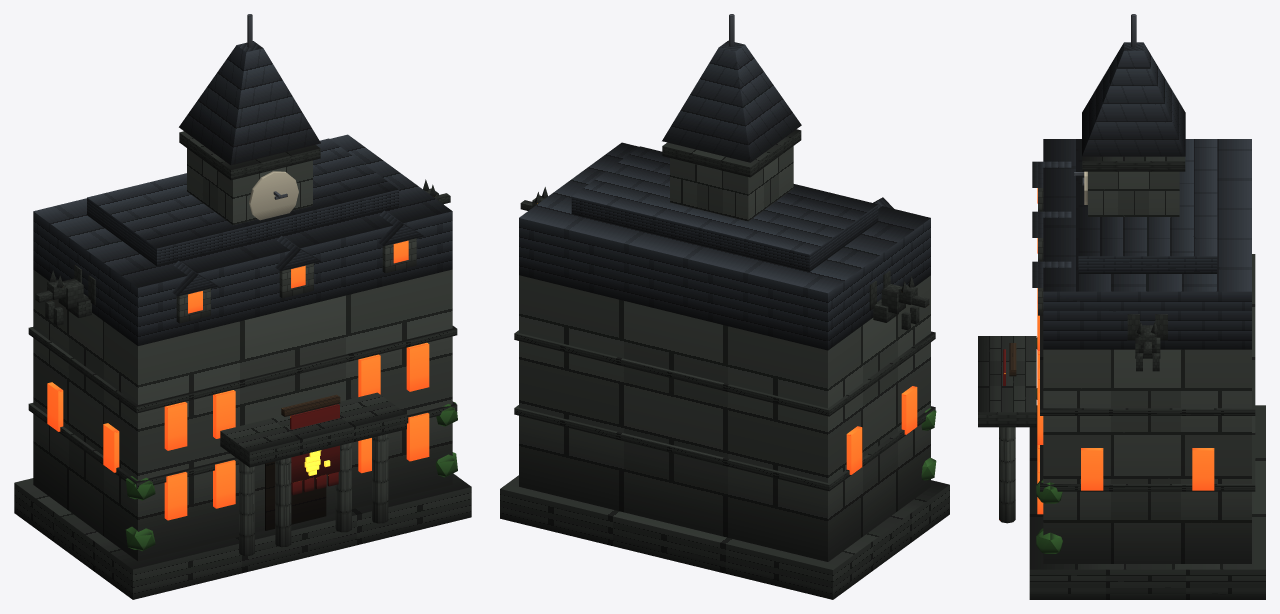
Rendered from town_hall.glb.
3 views of the same model, side by side, from view 1: azimuth 30°, elevation 25°; view 2: azimuth 150°, elevation 25°; view 3: azimuth 270°, elevation 25° (orthographic).
Parts seen in each view (by area): view 1: town_hall; view 2: town_hall; view 3: town_hall.
Boxes of the visible parts, bbox=[...] form: town_hall: bbox=[14, 14, 471, 599]; town_hall: bbox=[500, 14, 949, 599]; town_hall: bbox=[978, 14, 1265, 599].
Size of the model in its own units: 3.4 by 3.99 by 2.07.
Materials: 1 (1 with a texture image).
